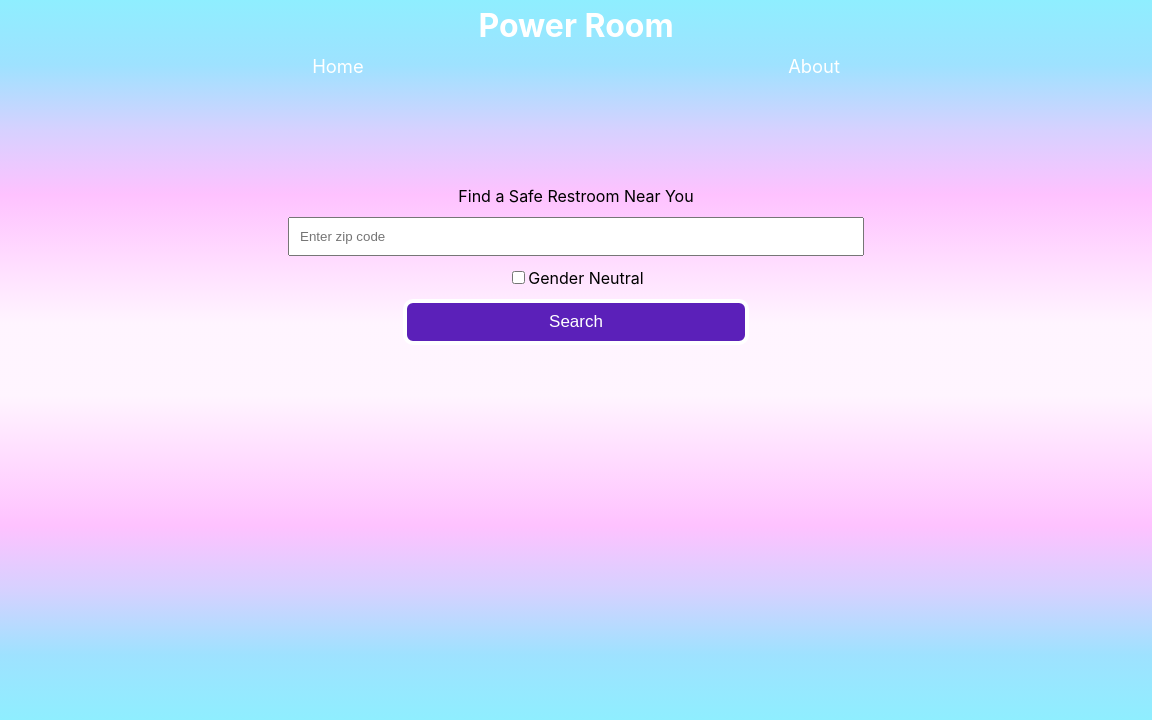
Test: Homepage › Should have a header with the page title and nav bar
Expected: the header is shown, [312,6,840,77]
Expected: the navigation bar is shown, [312,55,840,77]
Click the link with test id "nav-links" showing "Home": [338, 66] box [312,55,364,77]
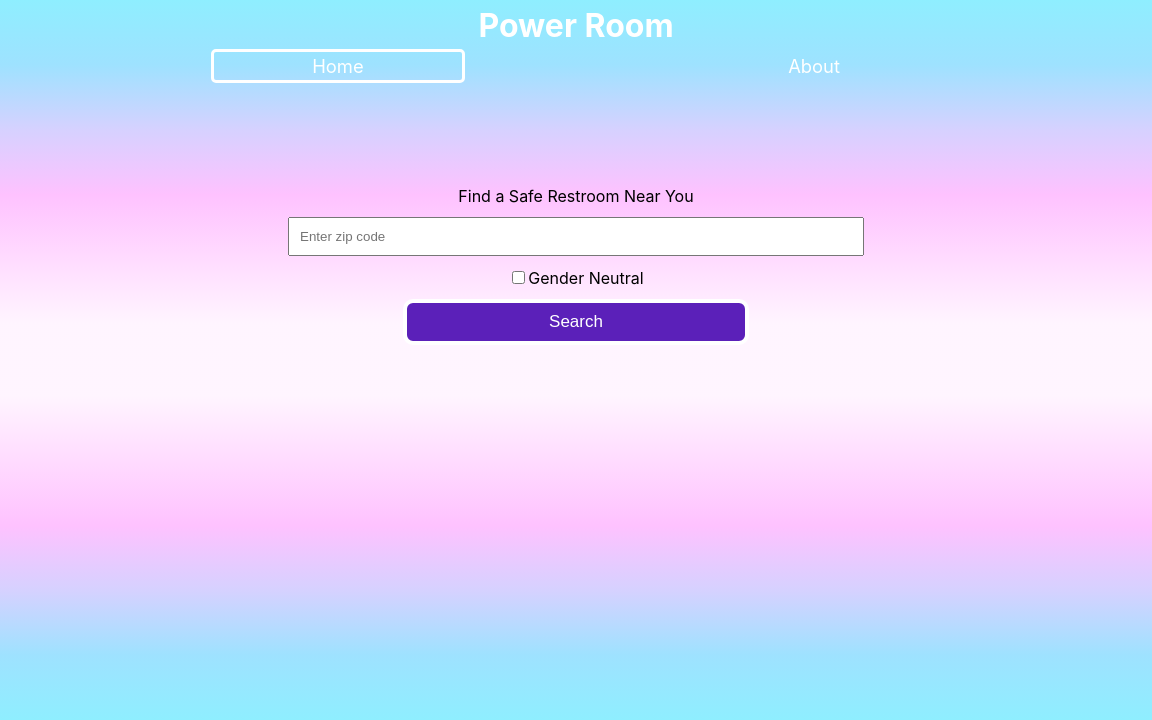
Click the link with test id "nav-links" showing "About": [814, 66] box [788,55,840,77]
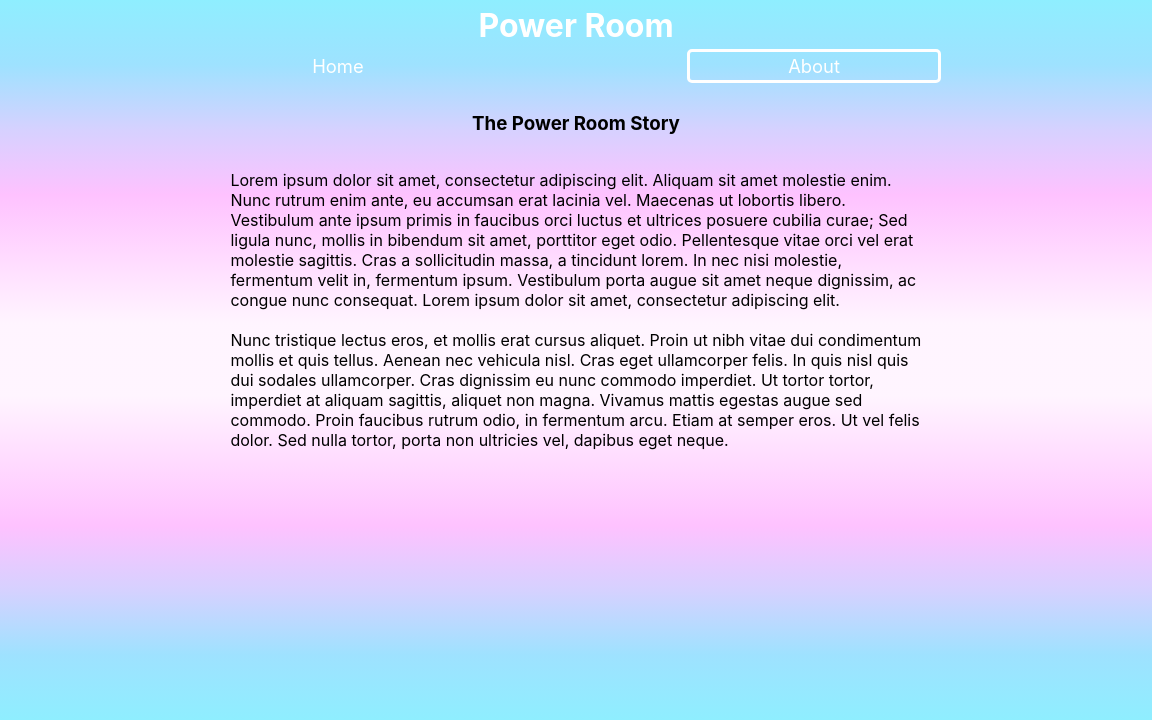
Now the heading "The Power Room Story" is shown, box [472,112,680,135]
